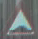Speed Breaker ahead: (3, 5, 37, 36)
